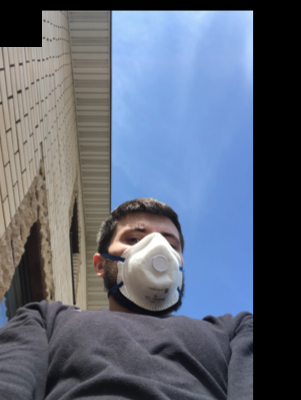with_mask: (109, 223, 185, 316)
